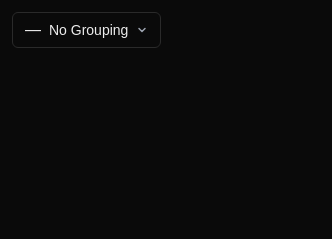
Scenario: GroupSelector › opens dropdown on click
Click the button with aria-label "group by options": (87, 30) [12,12,161,48]
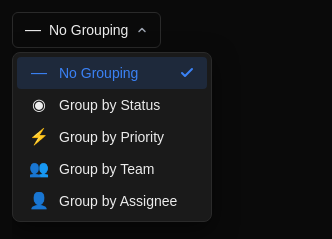
Expected: the list is shown, [12,52,212,222]
Expected: the text "Group by Status" is shown, [59,97,160,113]
Expected: the text "Group by Priority" is shown, [59,129,164,145]
